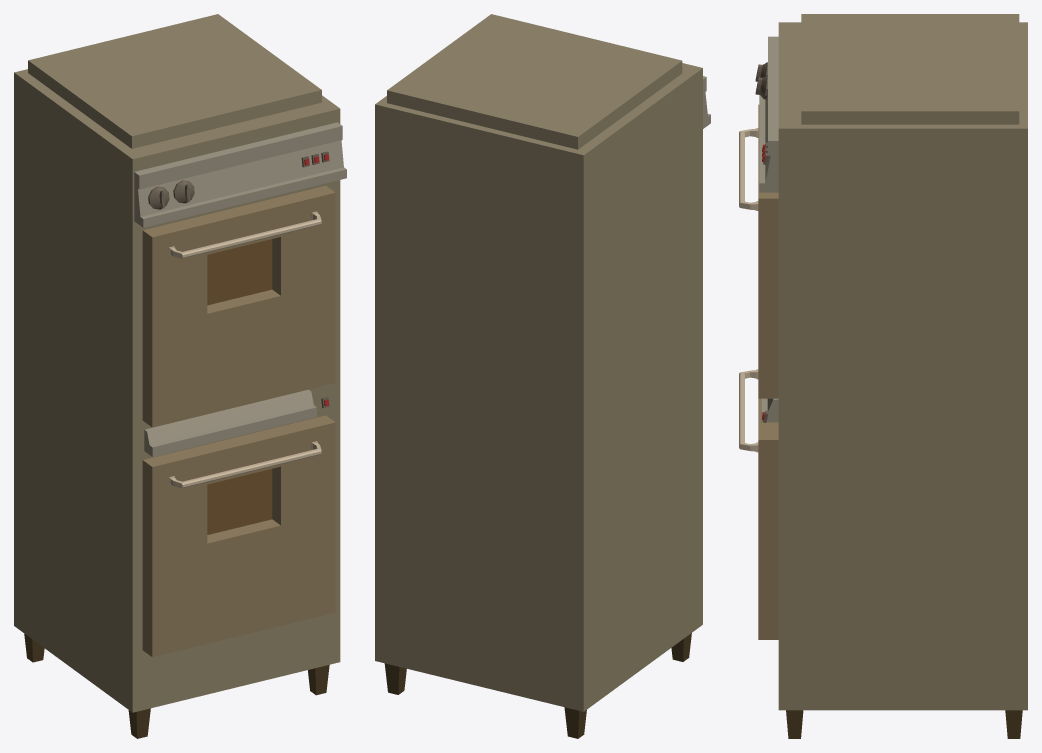
Rendered from oven 2.fbx.
3 renders of one model, left to right at view 1: azimuth 30°, elevation 25°; view 2: azimuth 150°, elevation 25°; view 3: azimuth 270°, elevation 25°, orthographic. The views are drawn at different scales.
Parts seen in each view (by area): view 1: pCube42; view 2: pCube42; view 3: pCube42.
Boxes of the visible parts, bbox=[...] form: pCube42: bbox=[14, 14, 346, 738]; pCube42: bbox=[375, 14, 710, 738]; pCube42: bbox=[739, 14, 1027, 738].
Size of the model in its own units: 5.44 by 14.98 by 6.24.
